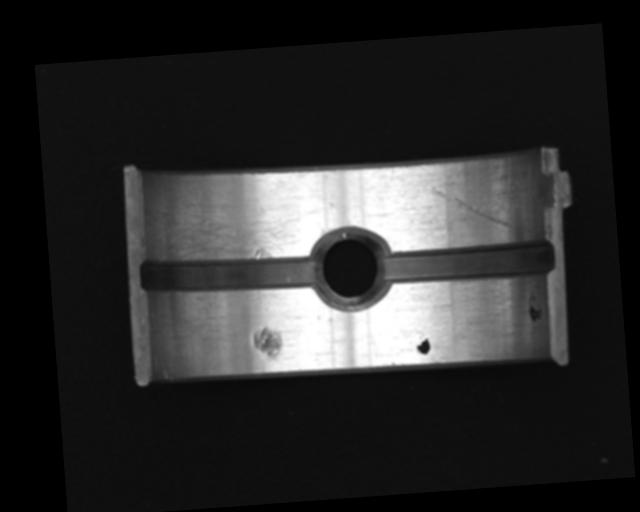blot: (526, 292, 542, 323), (415, 334, 432, 356)
bruise: (251, 325, 283, 360)
gap: (137, 246, 321, 300), (379, 239, 554, 287)
hole: (313, 223, 393, 313)
nick: (429, 178, 513, 234)
scratch: (149, 178, 317, 269)
